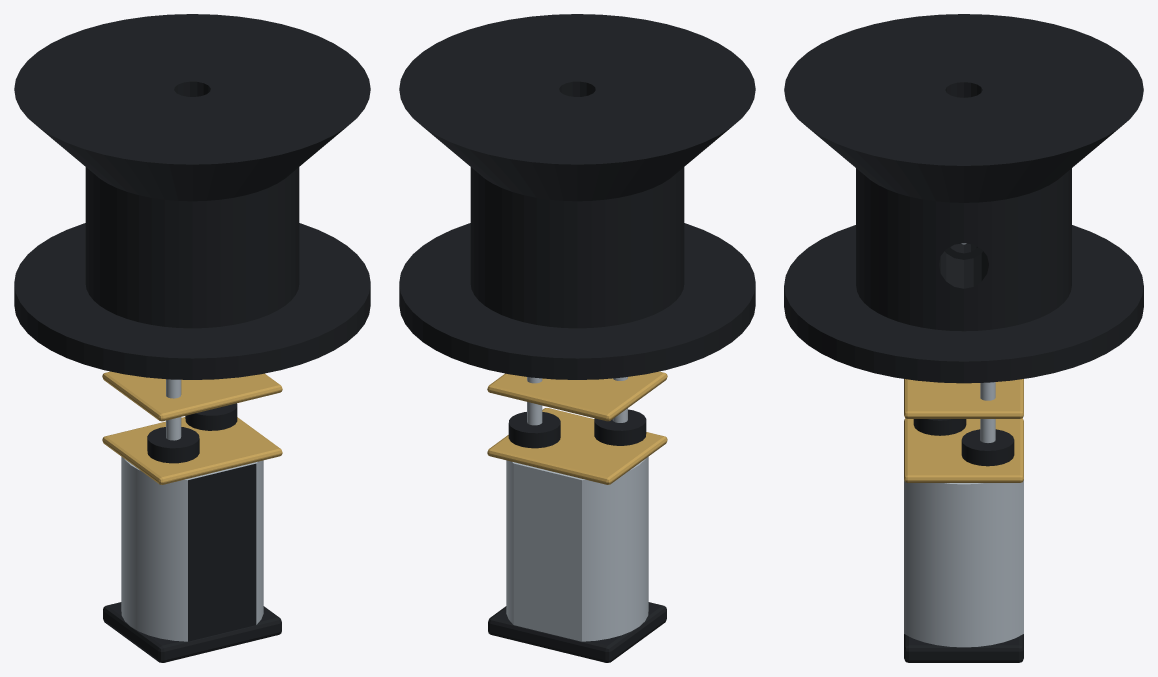
Rendered from winch_pololu_1000to1.glb.
The picture shows the model from 3 angles, left to right: view 1: azimuth 30°, elevation 25°; view 2: azimuth 150°, elevation 25°; view 3: azimuth 270°, elevation 25°; orthographic projection.
Visible parts, largest first — view 1: part_winch_pololu_1000to1__black_polymer, part_winch_pololu_1000to1__steel, part_winch_pololu_1000to1__brass; view 2: part_winch_pololu_1000to1__black_polymer, part_winch_pololu_1000to1__steel, part_winch_pololu_1000to1__brass; view 3: part_winch_pololu_1000to1__black_polymer, part_winch_pololu_1000to1__steel, part_winch_pololu_1000to1__brass.
Part boxes in pixels (x1,y1,x2,y2): part_winch_pololu_1000to1__black_polymer: [14, 14, 370, 662]; part_winch_pololu_1000to1__steel: [121, 379, 263, 641]; part_winch_pololu_1000to1__brass: [102, 371, 282, 484]; part_winch_pololu_1000to1__black_polymer: [399, 14, 755, 662]; part_winch_pololu_1000to1__steel: [506, 377, 648, 641]; part_winch_pololu_1000to1__brass: [487, 371, 667, 484]; part_winch_pololu_1000to1__black_polymer: [784, 14, 1143, 662]; part_winch_pololu_1000to1__steel: [904, 243, 1023, 647]; part_winch_pololu_1000to1__brass: [904, 379, 1023, 482].
Size of the model in its own units: 0.03 by 0.0501 by 0.03.
